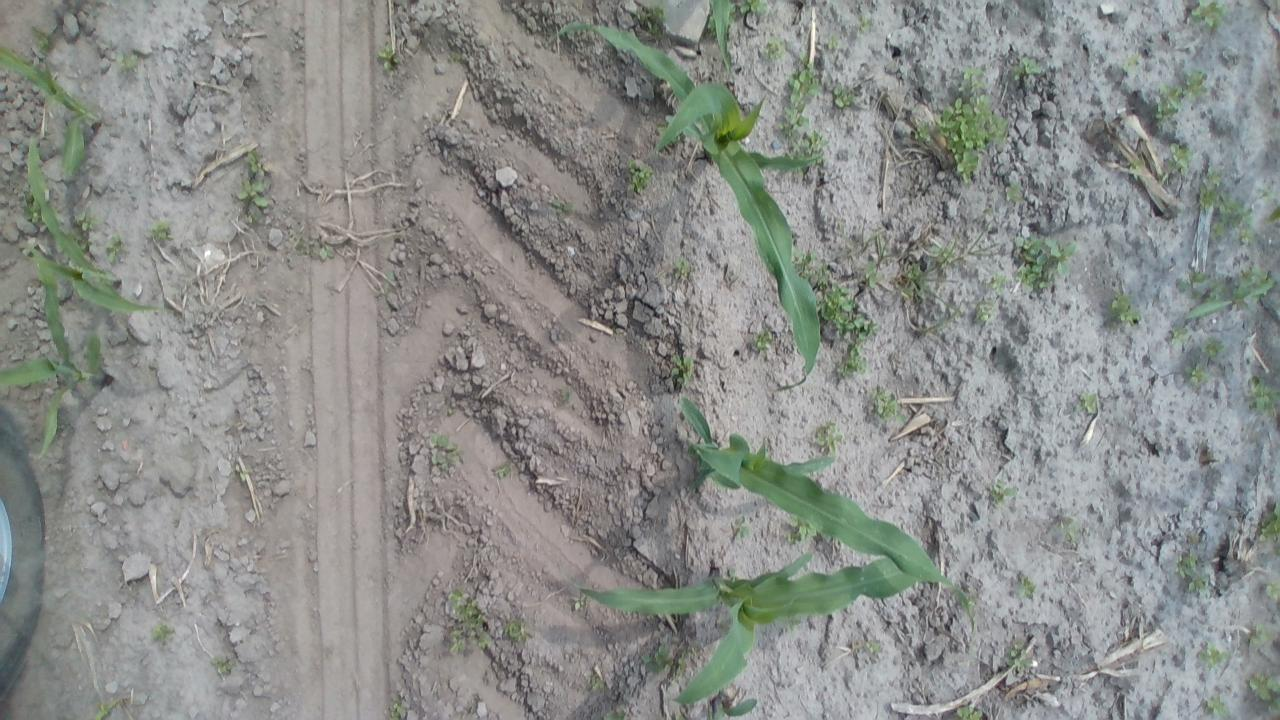Maize: (566, 23, 831, 390), (560, 534, 969, 706), (678, 380, 952, 588), (18, 128, 163, 354), (0, 294, 110, 461), (0, 38, 99, 184), (706, 0, 744, 78)
Weeds: (934, 78, 1006, 184), (1198, 165, 1252, 243), (1014, 234, 1078, 295), (444, 587, 492, 654), (814, 285, 870, 336), (836, 324, 873, 379), (237, 175, 270, 222), (1175, 553, 1210, 595), (871, 386, 906, 422), (1246, 377, 1277, 417), (1186, 0, 1227, 30), (858, 227, 891, 264), (789, 60, 820, 99), (632, 1, 666, 36), (1108, 290, 1141, 326), (1154, 84, 1182, 126), (430, 434, 464, 468), (640, 642, 676, 674), (898, 264, 928, 301), (778, 102, 809, 136), (1247, 672, 1277, 707), (1010, 55, 1043, 86), (1165, 142, 1195, 176), (625, 160, 655, 192), (1198, 640, 1230, 668), (784, 517, 818, 543), (71, 211, 99, 242), (1180, 70, 1208, 101), (815, 420, 842, 452), (794, 130, 826, 156), (502, 614, 531, 642), (1257, 504, 1277, 544), (671, 353, 696, 385), (990, 476, 1017, 505), (1179, 269, 1209, 295), (1005, 641, 1031, 671), (1246, 624, 1276, 648), (149, 219, 175, 246), (860, 264, 886, 291), (972, 297, 998, 324), (1201, 692, 1229, 717), (929, 245, 959, 268), (24, 192, 46, 223), (793, 250, 819, 276), (377, 43, 400, 72), (104, 231, 126, 261), (751, 328, 774, 356), (1060, 510, 1080, 542), (1184, 364, 1210, 388), (830, 84, 854, 109), (763, 39, 788, 63), (151, 620, 174, 644), (245, 151, 268, 174), (1120, 54, 1144, 76), (954, 703, 986, 719), (736, 0, 766, 17), (551, 196, 574, 218), (1004, 180, 1024, 205), (1078, 390, 1098, 415), (852, 12, 874, 34), (672, 258, 694, 280), (1016, 574, 1036, 598), (32, 29, 51, 54), (116, 53, 139, 73), (1202, 339, 1225, 359), (389, 696, 408, 719), (555, 386, 573, 410), (984, 273, 1009, 290), (588, 671, 608, 691), (494, 460, 516, 478), (913, 122, 930, 145), (213, 655, 232, 675), (604, 706, 631, 719), (318, 243, 336, 262), (1168, 326, 1187, 344), (932, 313, 949, 333), (734, 520, 752, 538), (570, 594, 586, 614), (865, 640, 882, 657), (1130, 158, 1142, 180), (1263, 580, 1276, 600)
